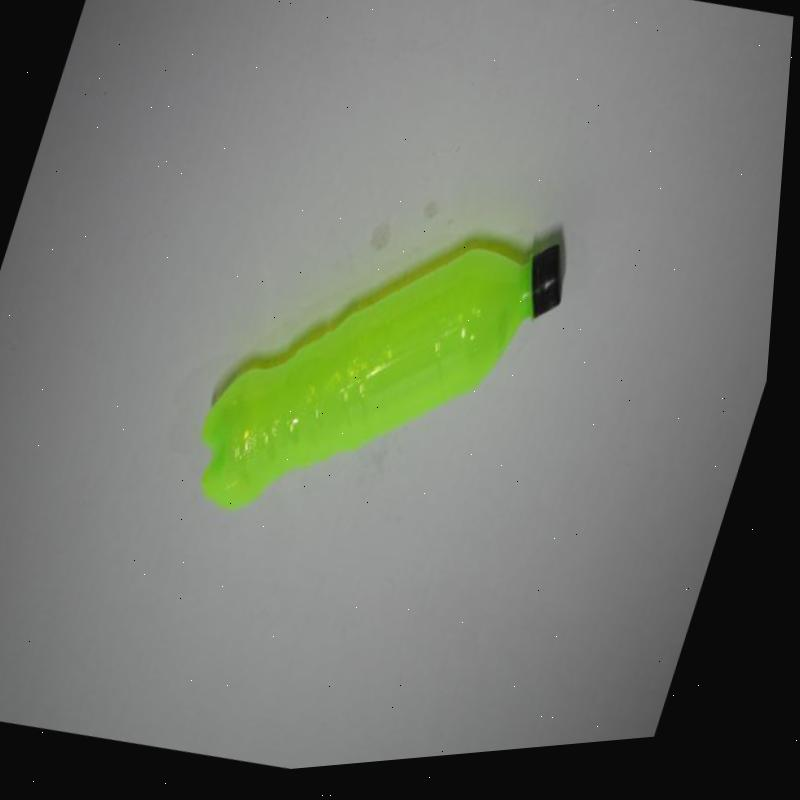botella: (180, 184, 586, 583)
